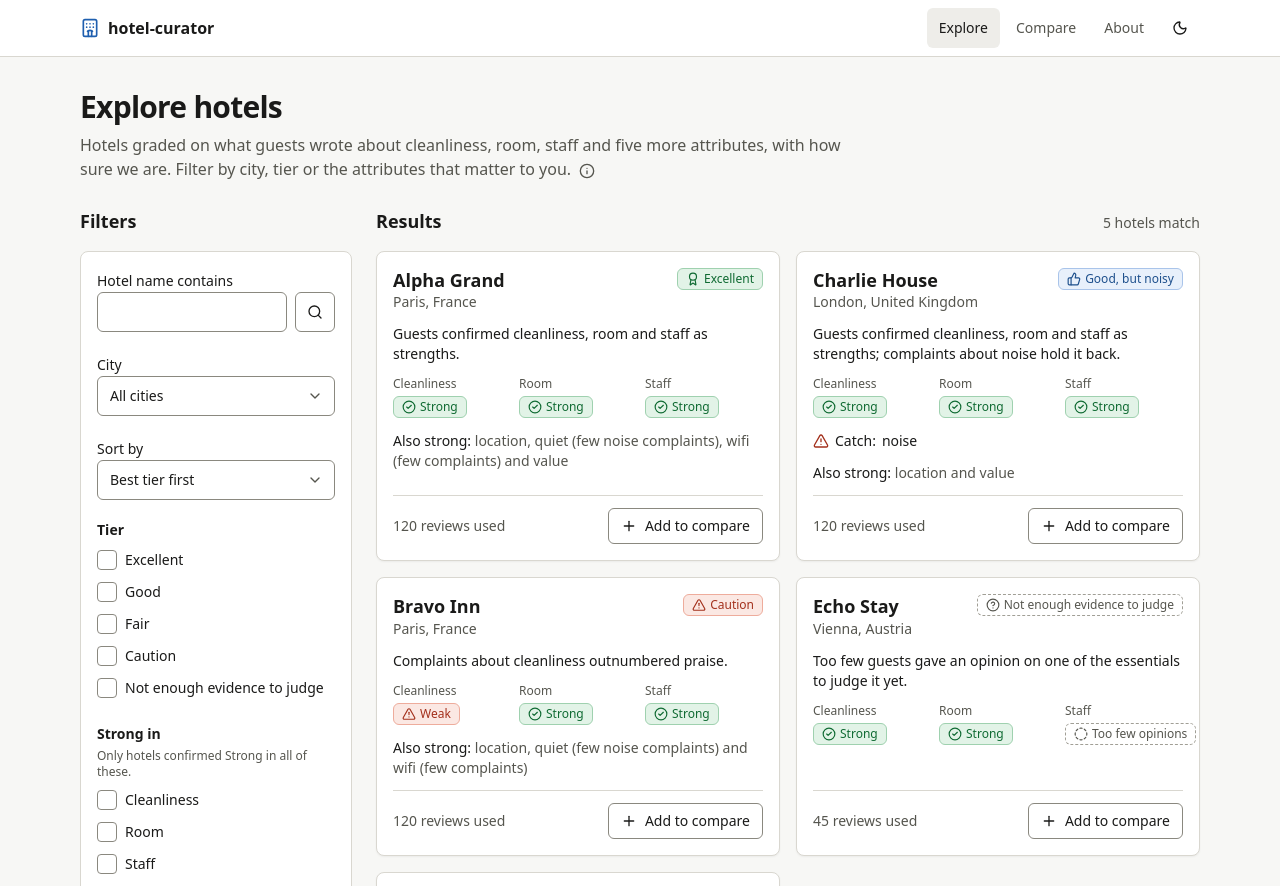
Scenario: Explorer page › adds hotels to the compare list
Click the button "Add to compare" below "Alpha Grand" at (685, 526), box x1=608 y1=508 x2=763 y2=544
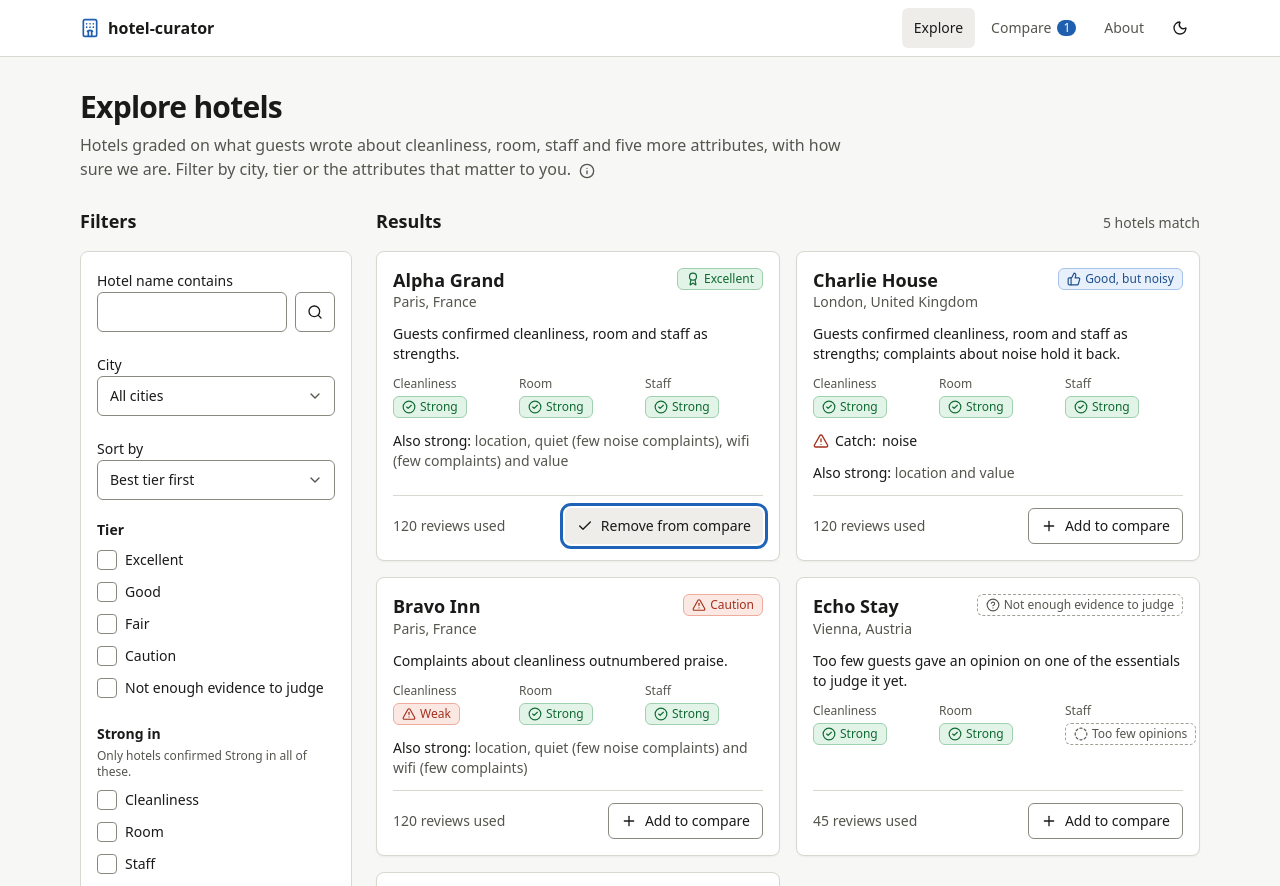
Check: the button "Remove from compare" is shown, box x1=565 y1=508 x2=763 y2=544
